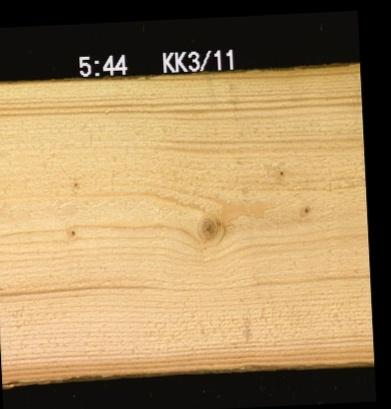small_knot: (67, 227, 76, 236), (70, 179, 79, 187), (278, 168, 283, 175)
sound_knot: (199, 214, 220, 244), (296, 201, 310, 216)
